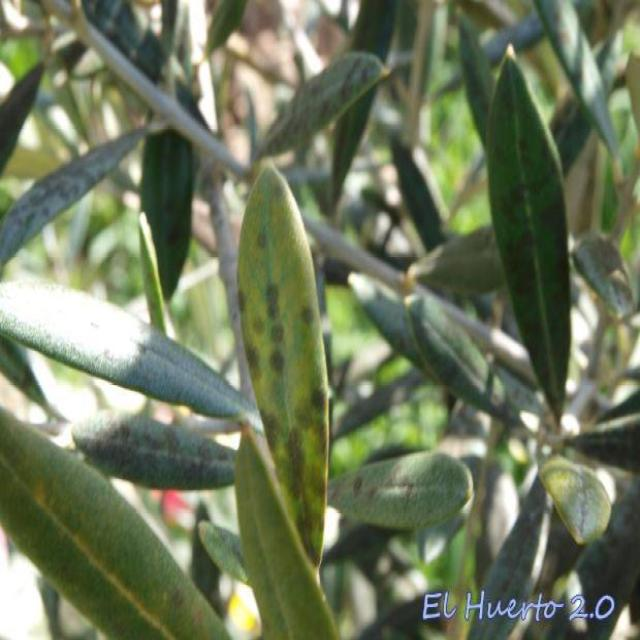Peacock Eye: (238, 167, 329, 581)
